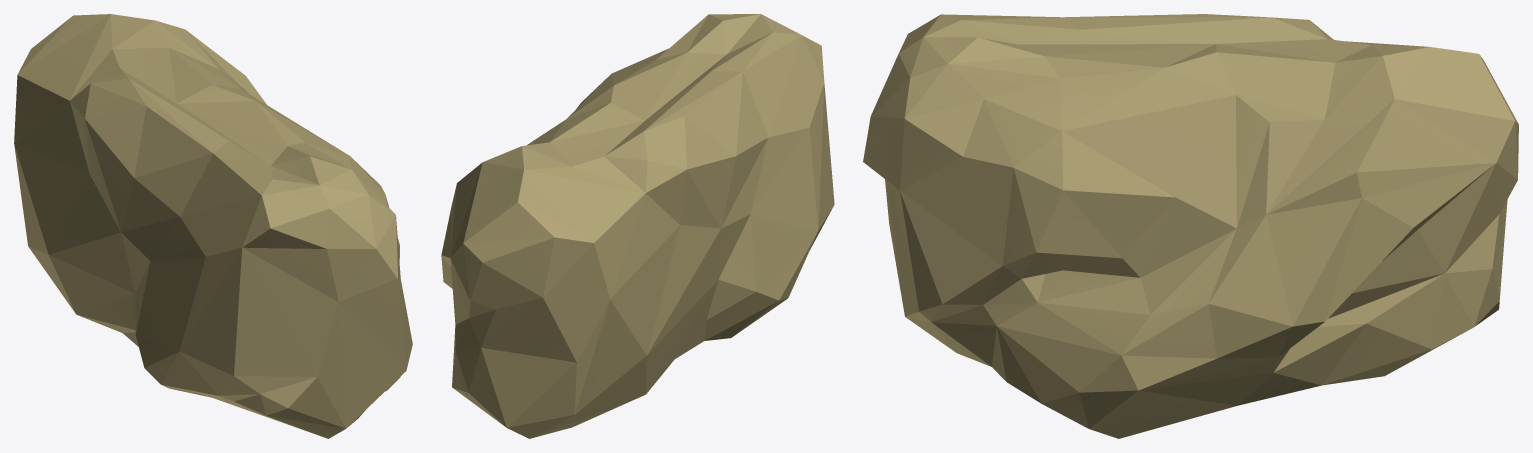
File: SM_rock_58.fbx
3 renders of one model, left to right at view 1: azimuth 30°, elevation 25°; view 2: azimuth 150°, elevation 25°; view 3: azimuth 270°, elevation 25°, orthographic. The views are drawn at different scales.
Parts seen in each view (by area): view 1: rock_58; view 2: rock_58; view 3: rock_58.
Part boxes in pixels (x1,y1,x2,y2): rock_58: [14, 14, 412, 438]; rock_58: [441, 14, 834, 438]; rock_58: [863, 14, 1518, 438].
Bounding box in the file's own units: 113 × 124 × 212.
